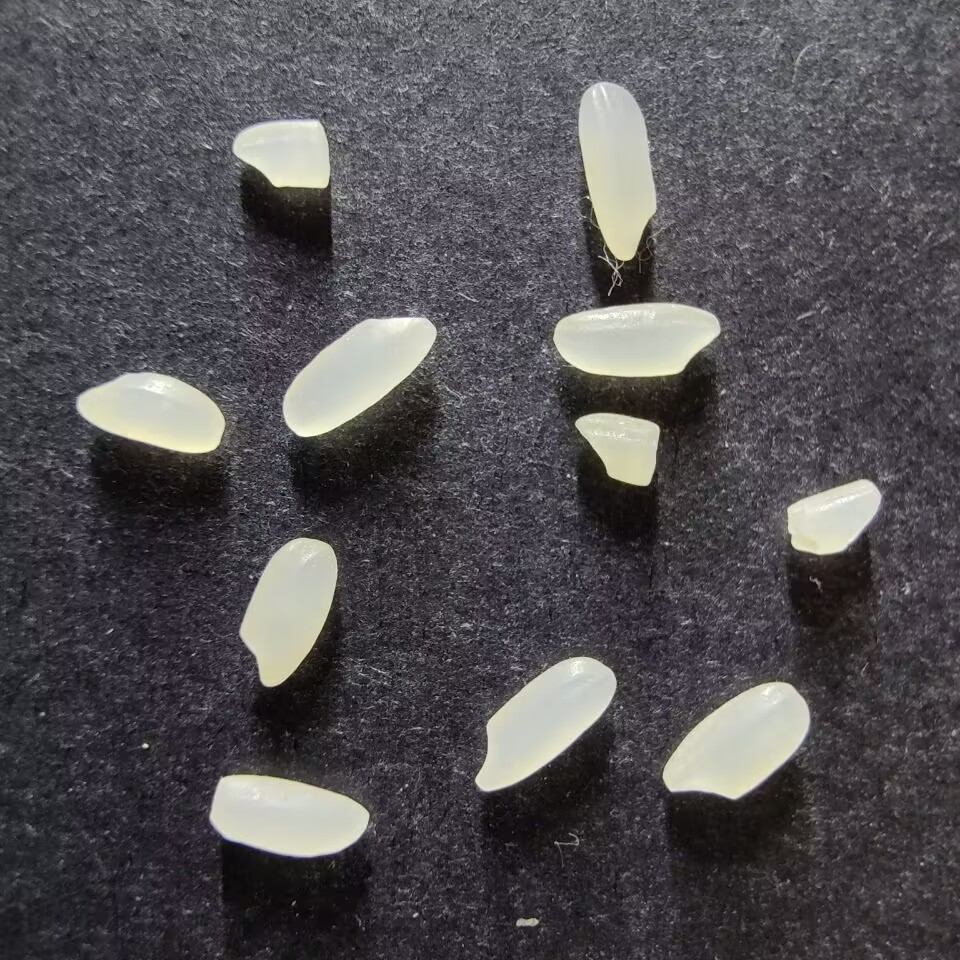broken: (785, 477, 882, 556), (231, 119, 332, 188), (573, 412, 661, 488)
rice: (474, 656, 616, 792), (281, 316, 437, 437), (661, 680, 809, 800), (237, 537, 338, 688), (577, 81, 658, 261), (209, 773, 369, 857), (553, 302, 721, 377), (76, 371, 224, 454)
